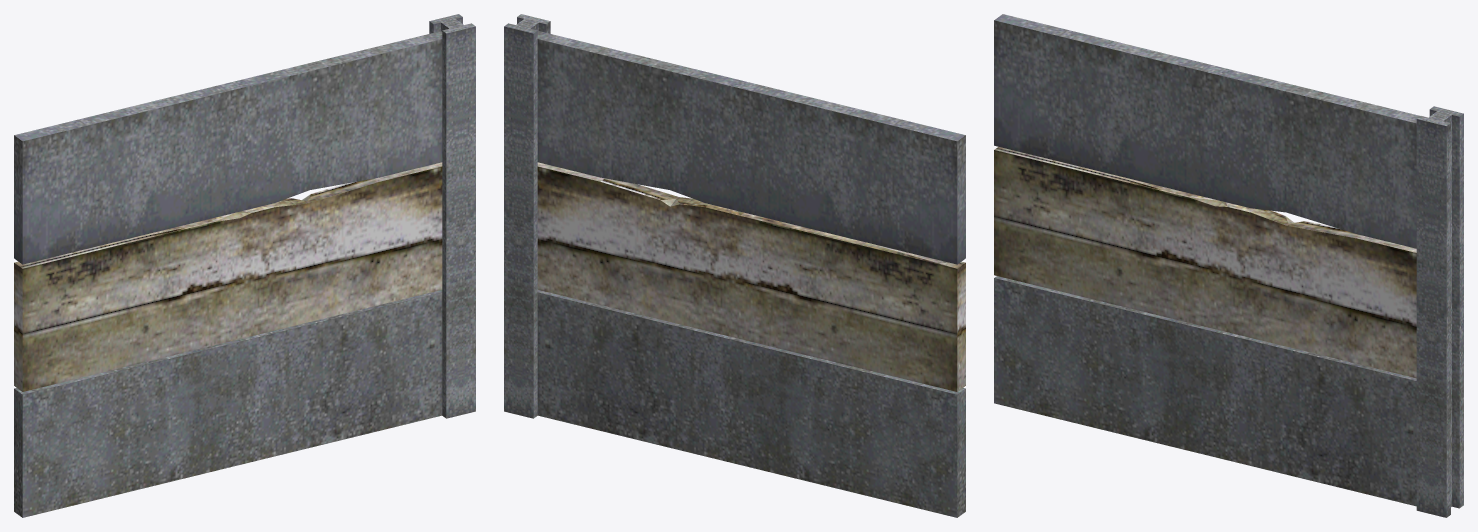
Rendered from Urban_PlackardOpenPatched_Alternate_d769de_Model.fbx.
3 renders of one model, left to right at view 1: azimuth 30°, elevation 25°; view 2: azimuth 150°, elevation 25°; view 3: azimuth 330°, elevation 25°, orthographic.
Visible parts, largest first — view 1: Urban_PlackardOpenPatched_Alternate_d769de_Mesh; view 2: Urban_PlackardOpenPatched_Alternate_d769de_Mesh; view 3: Urban_PlackardOpenPatched_Alternate_d769de_Mesh.
Part boxes in pixels (x1,y1,x2,y2): Urban_PlackardOpenPatched_Alternate_d769de_Mesh: (14,14,475,517); Urban_PlackardOpenPatched_Alternate_d769de_Mesh: (504,14,965,517); Urban_PlackardOpenPatched_Alternate_d769de_Mesh: (994,14,1463,517).
Size of the model in its own units: 3.05 by 2.5 by 0.2.
